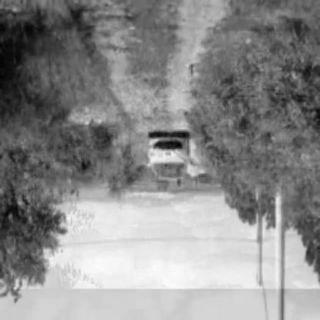other: (118, 78, 210, 146)
